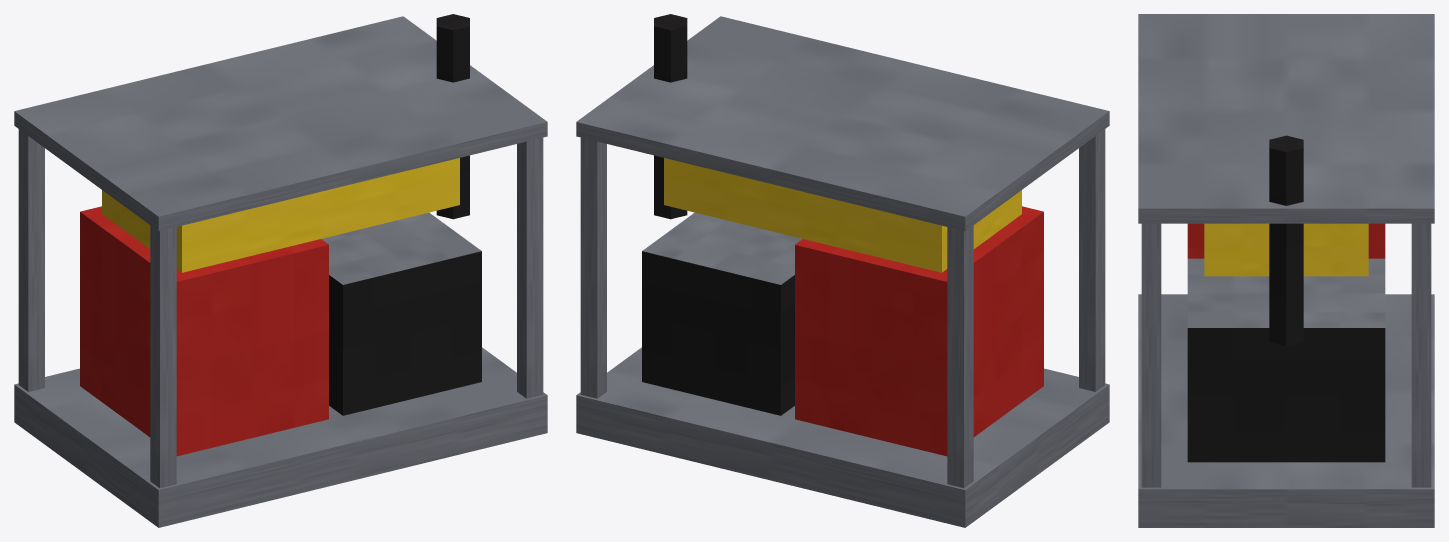
File: generator-cream-far.glb
The picture shows the model from 3 angles, left to right: view 1: azimuth 30°, elevation 25°; view 2: azimuth 150°, elevation 25°; view 3: azimuth 270°, elevation 25°; orthographic projection. The views are drawn at different scales.
Visible parts, largest first — view 1: generator-cream-far; view 2: generator-cream-far; view 3: generator-cream-far.
Boxes of the visible parts, left/top/right/bottom form: generator-cream-far: left=14, top=14, right=547, bottom=527; generator-cream-far: left=576, top=14, right=1109, bottom=527; generator-cream-far: left=1138, top=14, right=1434, bottom=527.
Size of the model in its own units: 1.4 by 1.25 by 0.9.
1 material, 1 textured.
